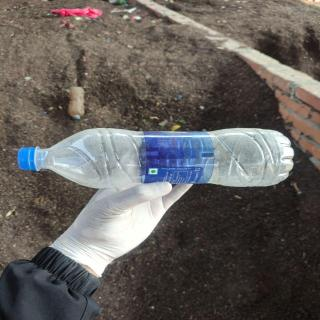Plastic-bottle: (15, 127, 298, 192)
